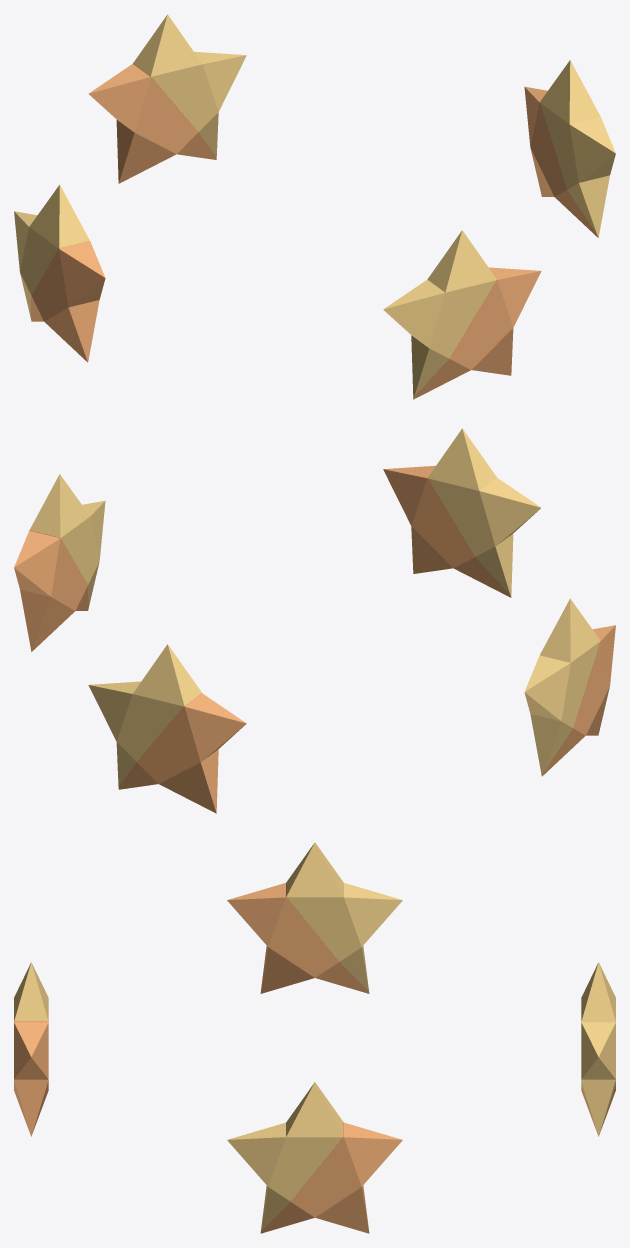
3 renders of one model, top to bottom at view 1: azimuth 30°, elevation 25°; view 2: azimuth 150°, elevation 25°; view 3: azimuth 270°, elevation 25°, orthographic. The views are drawn at different scales.
Visible parts, largest first — view 1: Stun01; view 2: Stun01; view 3: Stun01.
Boxes of the visible parts, bbox=[...] form: Stun01: bbox=[14, 14, 615, 399]; Stun01: bbox=[14, 428, 615, 813]; Stun01: bbox=[14, 842, 615, 1233].
Bounding box in the file's own units: 0.9549 × 0.9549 × 0.2659.
Materials: 1 (1 with a texture image).
